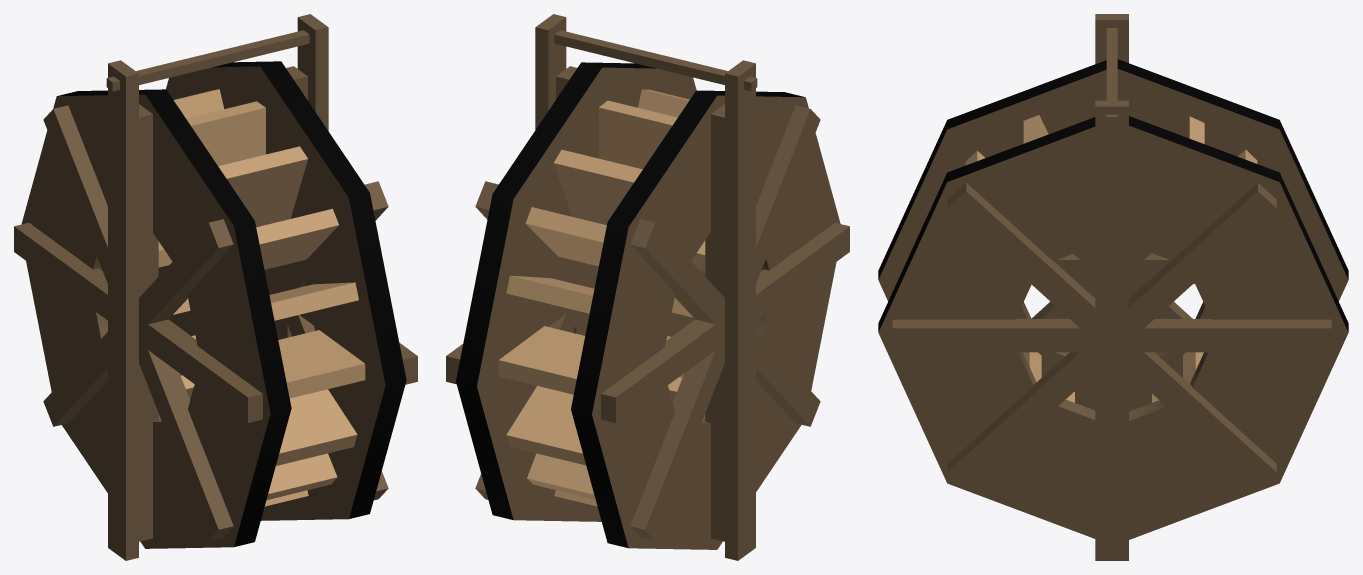
Rendered from Lumber_mill_mill.fbx.
3 views of the same model, side by side, from view 1: azimuth 30°, elevation 25°; view 2: azimuth 150°, elevation 25°; view 3: azimuth 270°, elevation 25° (orthographic). The views are drawn at different scales.
Parts seen in each view (by area): view 1: Lumber_mill_mill; view 2: Lumber_mill_mill; view 3: Lumber_mill_mill.
Boxes of the visible parts, x1=… form: Lumber_mill_mill: x1=14, y1=14, x2=417, y2=560; Lumber_mill_mill: x1=446, y1=14, x2=849, y2=560; Lumber_mill_mill: x1=878, y1=14, x2=1348, y2=560.
Size of the model in its own units: 181 by 393 by 367.
